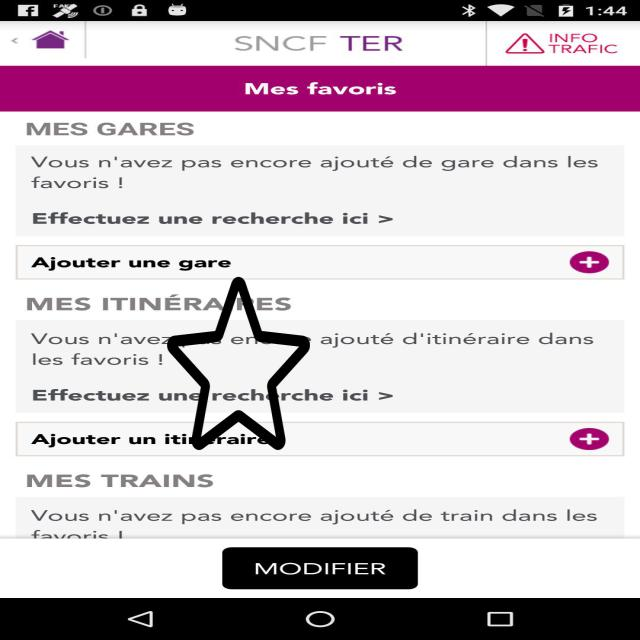forced continuity: (167, 273, 310, 454)
